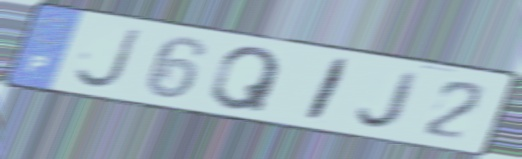2: (419, 79, 487, 142)
6: (143, 34, 209, 102)
I: (299, 55, 356, 125)
J: (70, 25, 144, 92), (354, 69, 424, 130)
Q: (207, 45, 285, 115)
